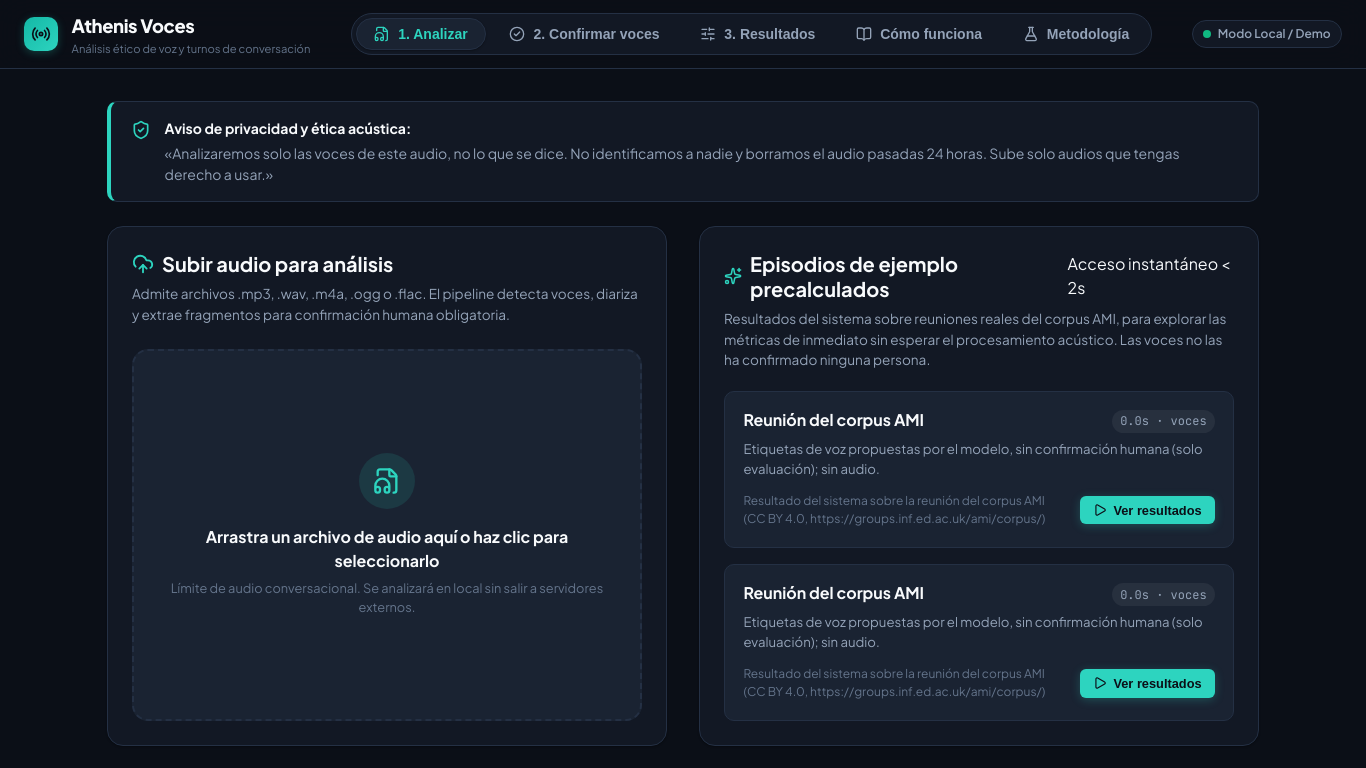
Test: Aplicación Athenis Voces Frontend › permite seleccionar un ejemplo precalculado y ver resultados directamente
Click the 1st button "Ver resultados".
click(1147, 510)  # box left=1080, top=496, right=1215, bottom=524
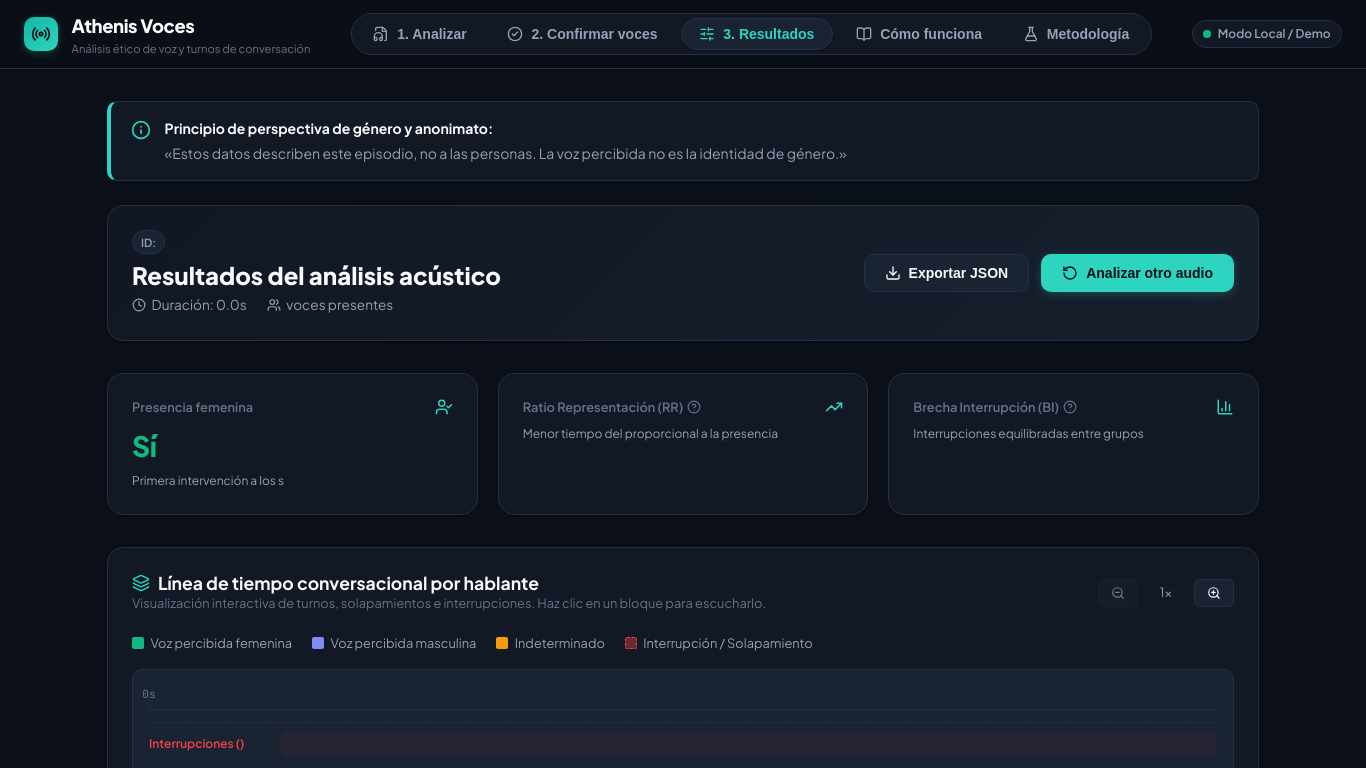
Now the text "Estos datos describen este episodio, no a las personas" is shown, box left=165, top=144, right=847, bottom=162
Now the heading "Resultados del análisis acústico" is shown, box left=132, top=260, right=501, bottom=290
